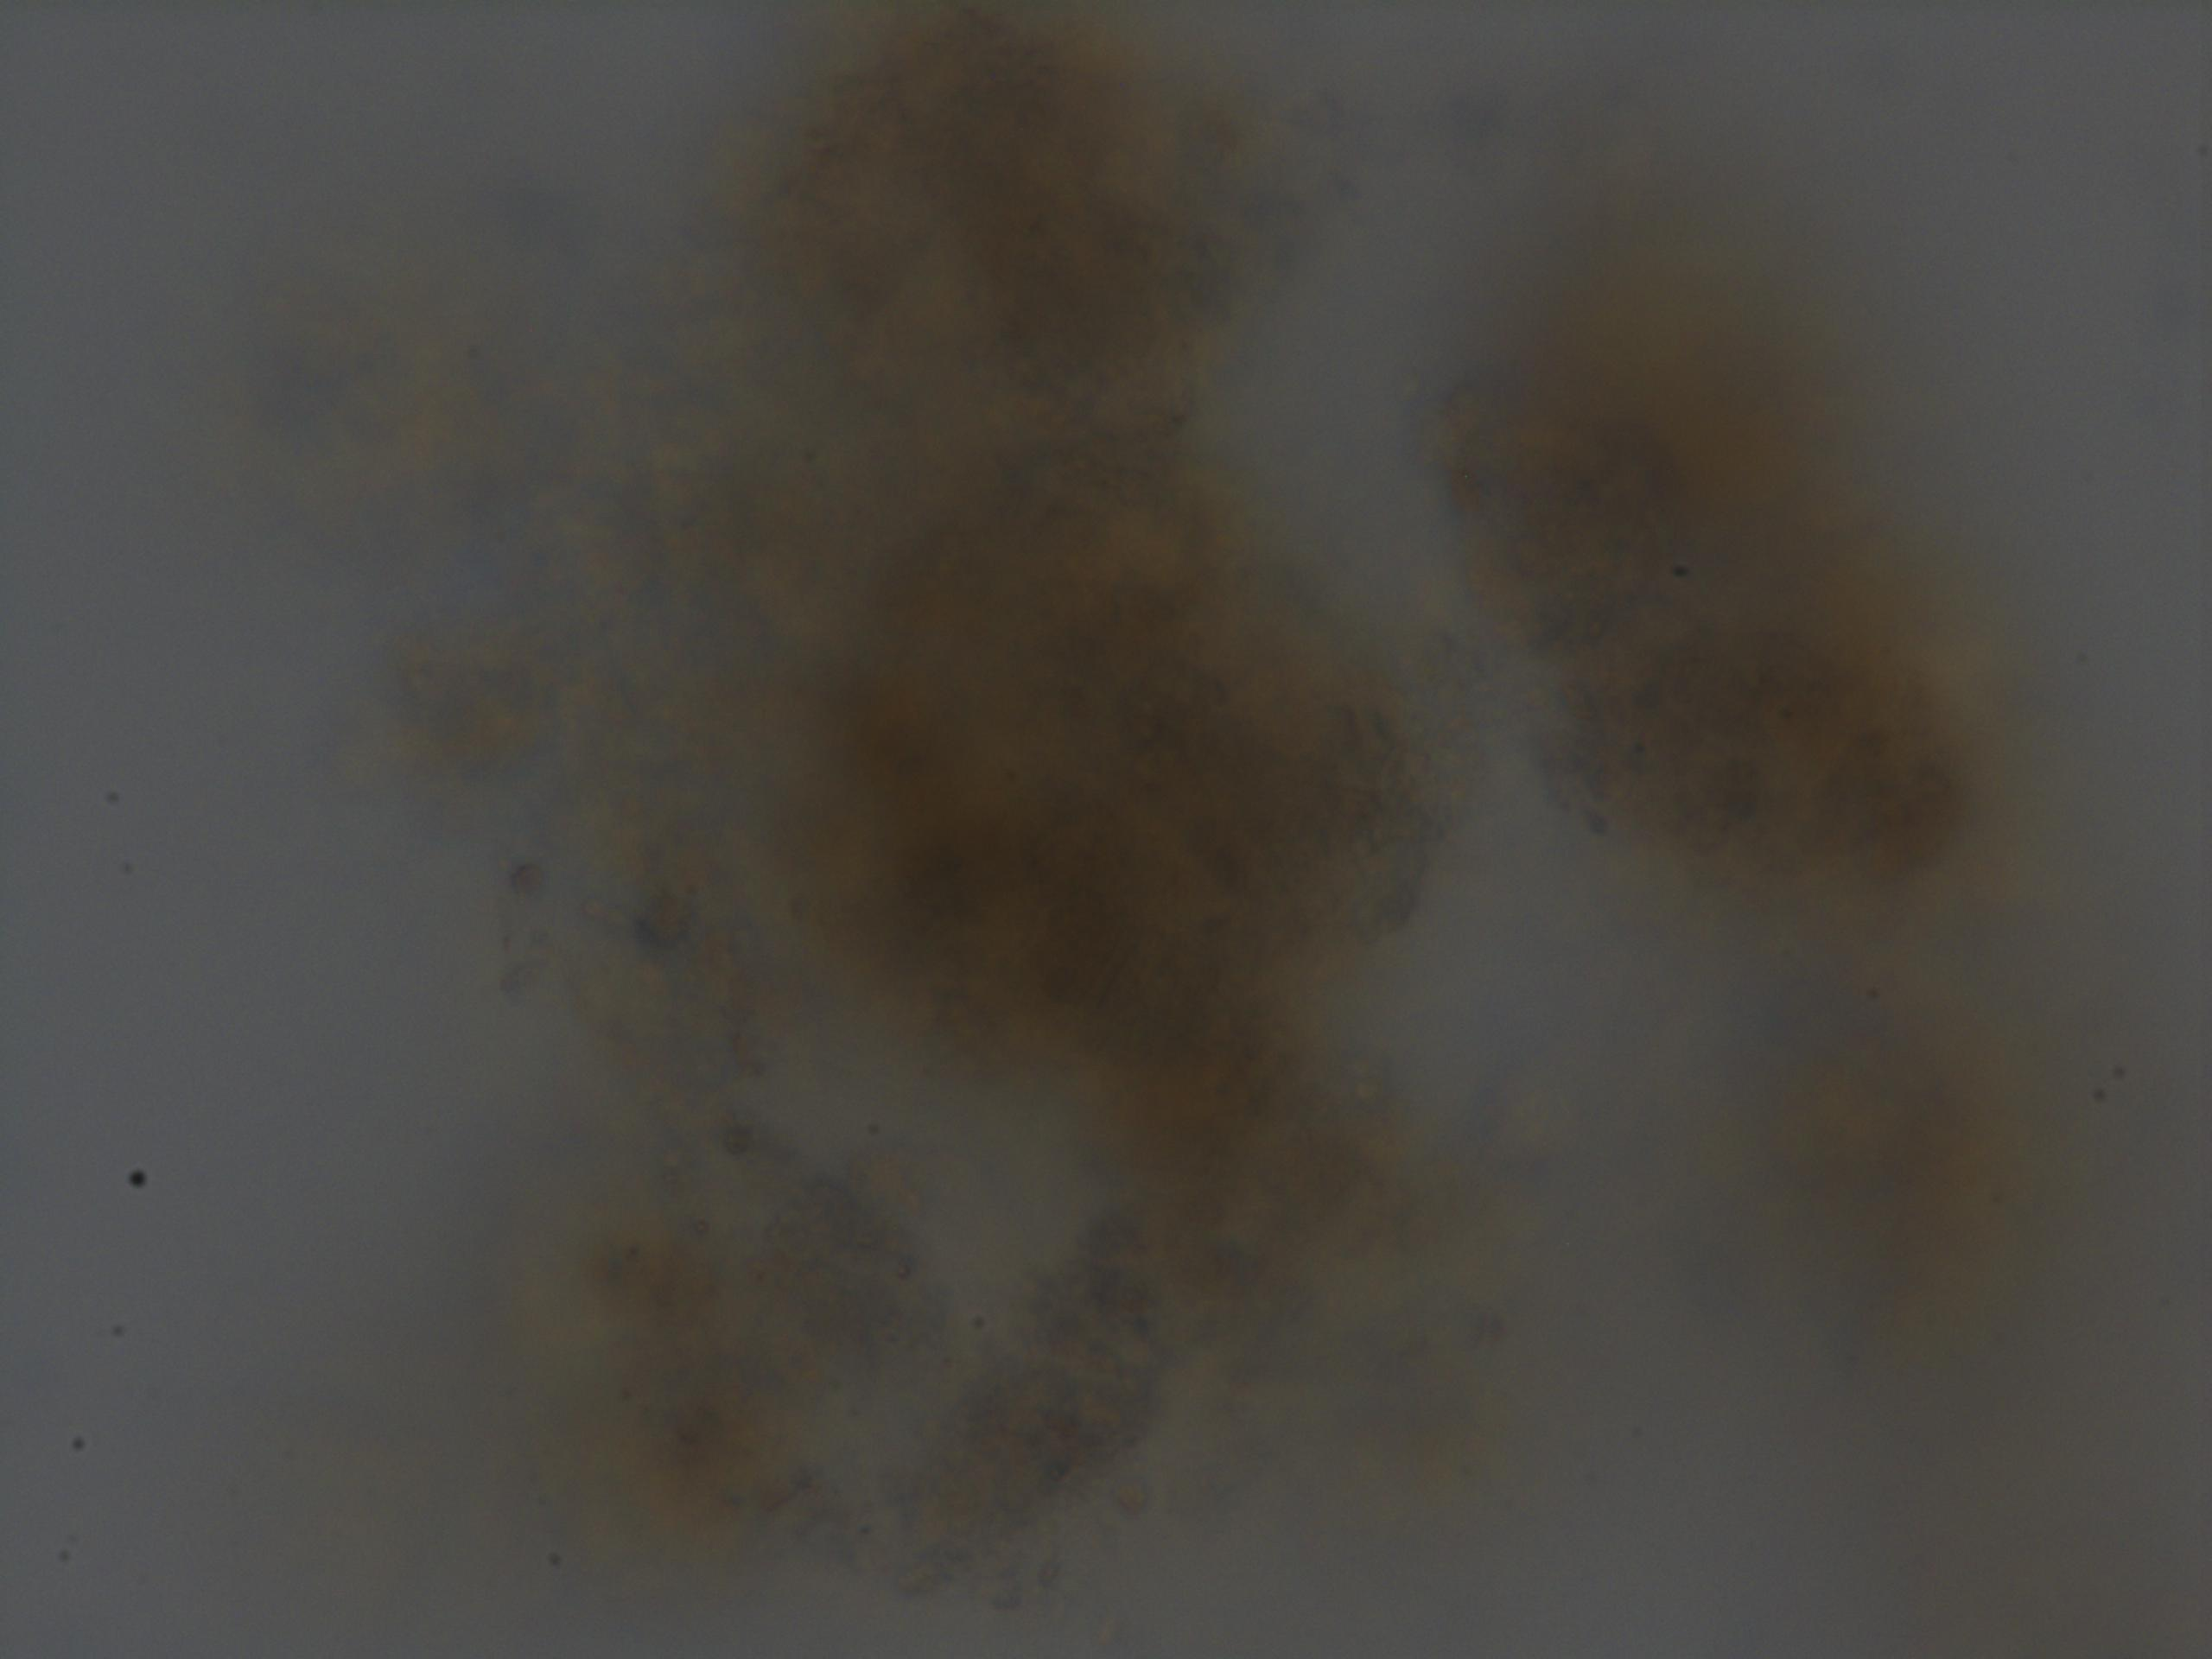open_floc: (341, 0, 2010, 1614)
